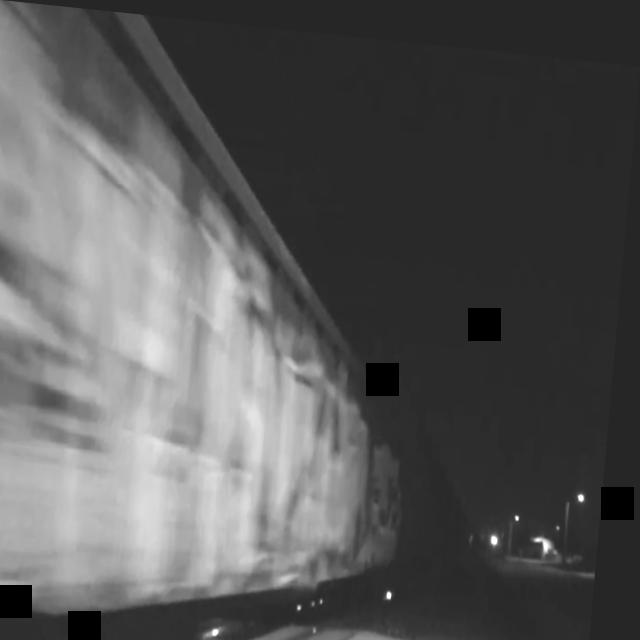gondola: (0, 0, 471, 640)
